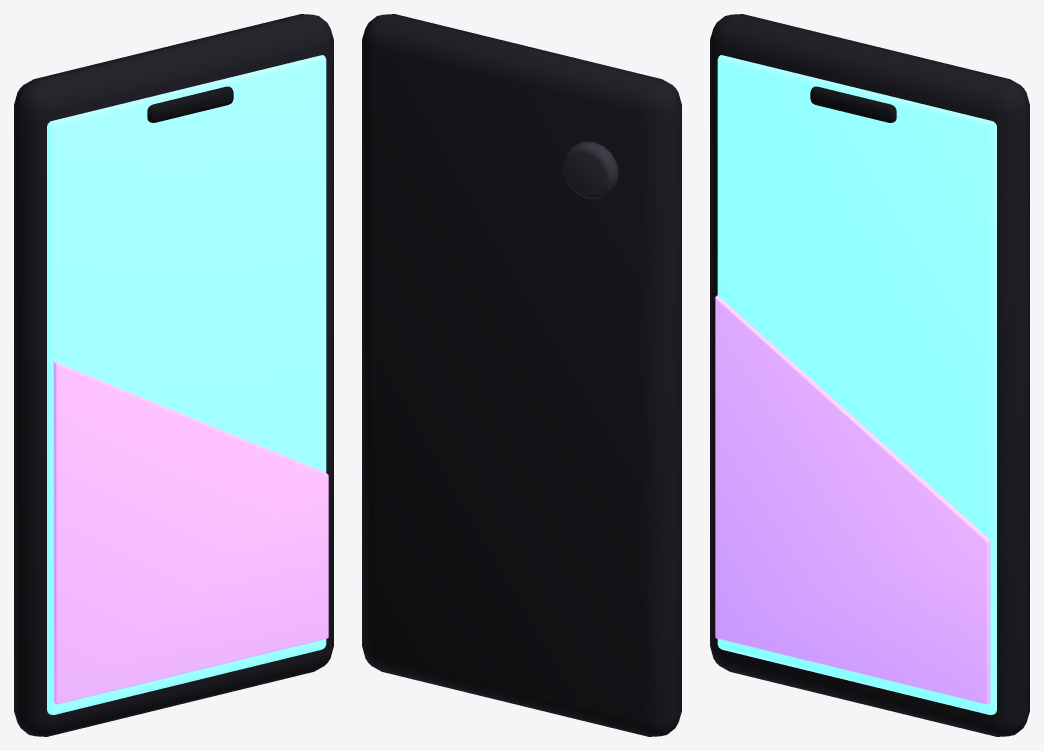
Rendered from item_smartphone.fbx.
3 renders of one model, left to right at view 1: azimuth 30°, elevation 25°; view 2: azimuth 150°, elevation 25°; view 3: azimuth 330°, elevation 25°, orthographic.
Visible parts, largest first — view 1: item_smartphone; view 2: item_smartphone; view 3: item_smartphone.
Boxes of the visible parts, x1,y1,x2,y2 form: item_smartphone: [14, 14, 333, 736]; item_smartphone: [362, 14, 681, 736]; item_smartphone: [710, 14, 1029, 736].
Bounding box in the file's own units: 0.11 × 0.22 × 0.0248.
